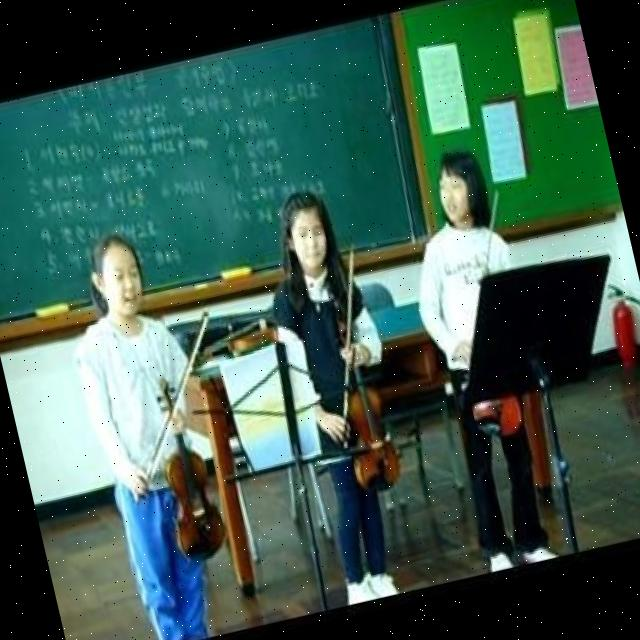violin: (314, 289, 405, 498), (140, 369, 232, 566), (468, 385, 528, 442)
